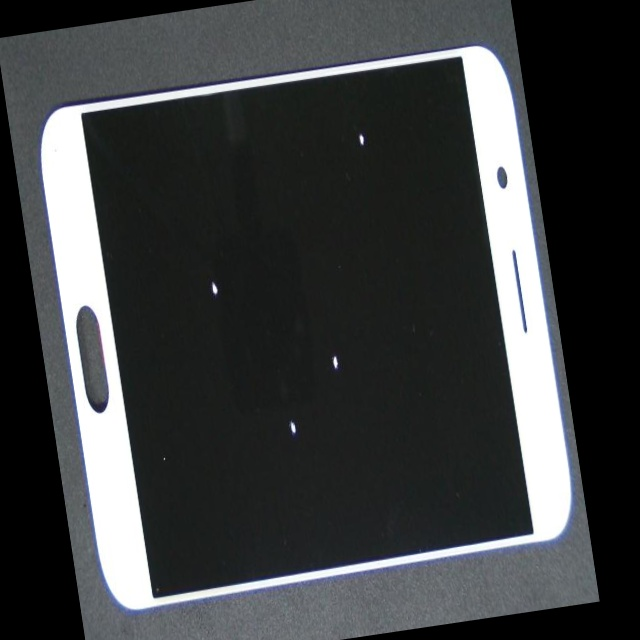stain: (138, 168, 503, 627), (176, 226, 458, 640), (89, 88, 295, 415), (199, 54, 537, 223)
